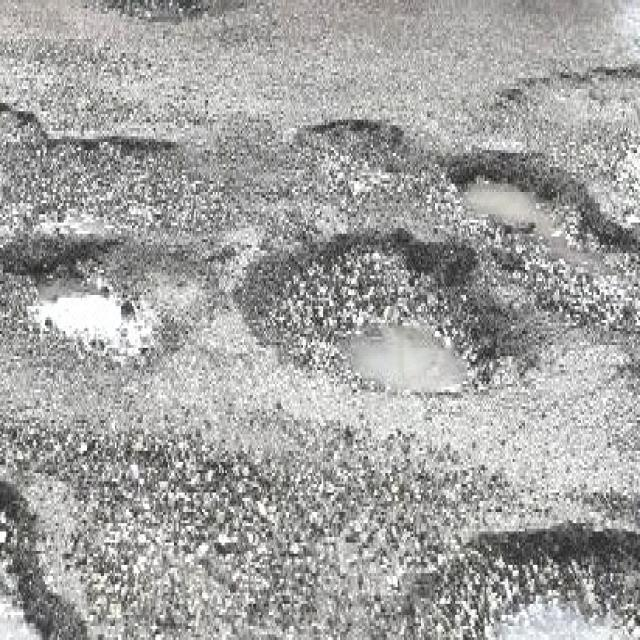road-pothole: (273, 229, 532, 399), (3, 243, 215, 358), (456, 164, 638, 295), (1, 104, 183, 231), (476, 531, 638, 637), (1, 477, 80, 637), (296, 120, 409, 201)
